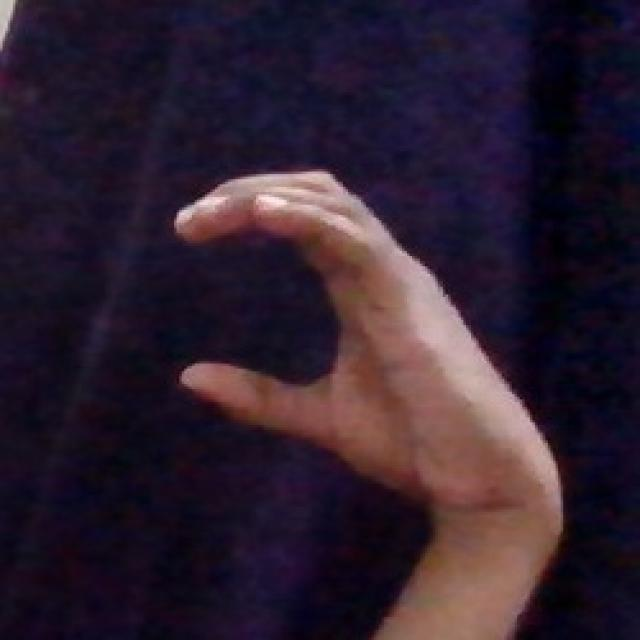Alphabet-C: (144, 160, 568, 534)
